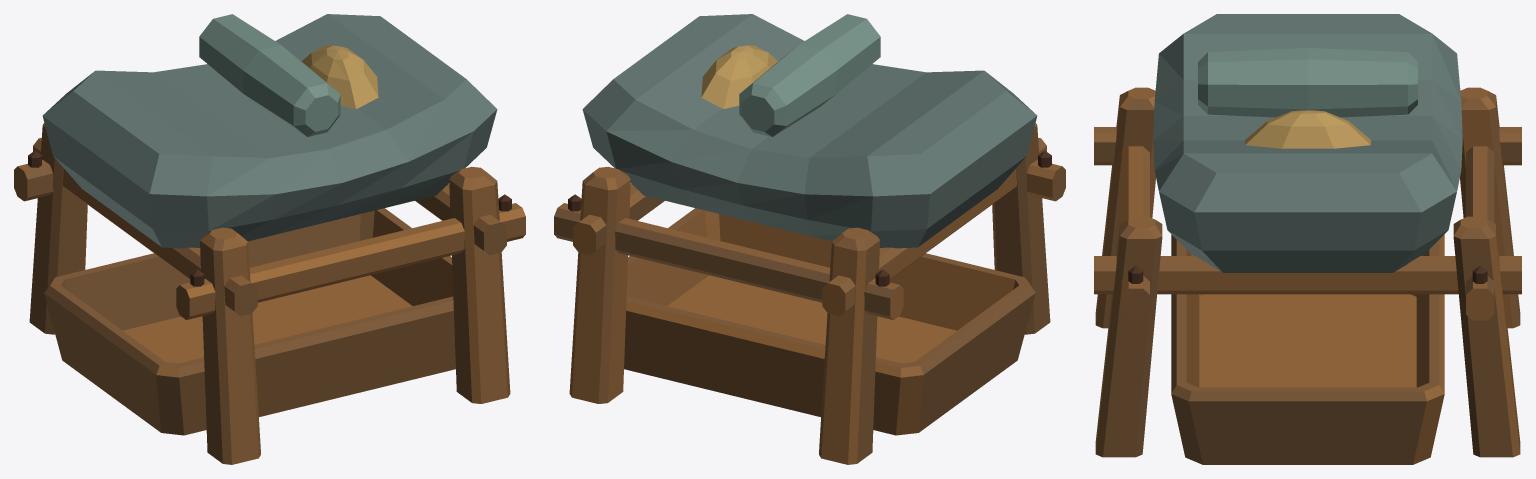
Rendered from saddle-quern-food-mill-8e3657.glb.
The picture shows the model from 3 angles, left to right: view 1: azimuth 30°, elevation 25°; view 2: azimuth 150°, elevation 25°; view 3: azimuth 270°, elevation 25°; orthographic projection. The views are drawn at different scales.
Visible parts, largest first — view 1: object 1, tray, stroke; view 2: object 1, tray, stroke; view 3: object 1, tray, stroke.
Part boxes in pixels (x1=…): object 1: x1=14, y1=14, x2=525, y2=464; tray: x1=44, y1=208, x2=455, y2=435; stroke: x1=199, y1=14, x2=340, y2=136; object 1: x1=554, y1=14, x2=1065, y2=464; tray: x1=624, y1=208, x2=1035, y2=435; stroke: x1=739, y1=14, x2=880, y2=136; object 1: x1=1094, y1=14, x2=1521, y2=457; tray: x1=1171, y1=234, x2=1444, y2=464; stroke: x1=1198, y1=48, x2=1417, y2=117.
Bounding box in the file's own units: 0.6 × 0.5119 × 0.6027.
